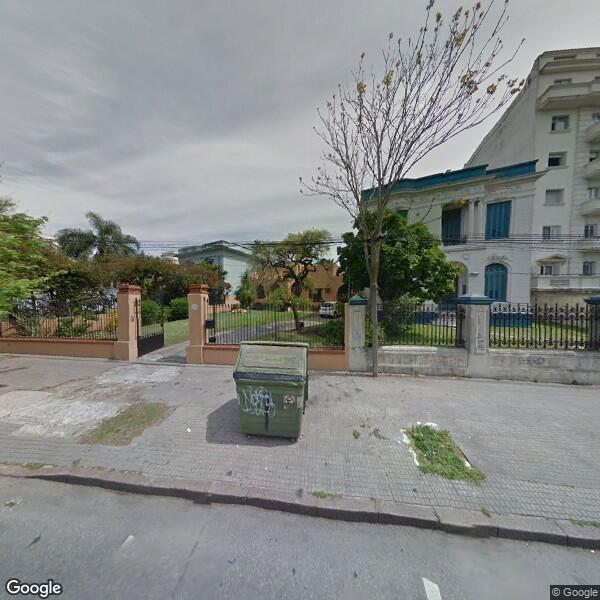Trash: (234, 339, 312, 445)
